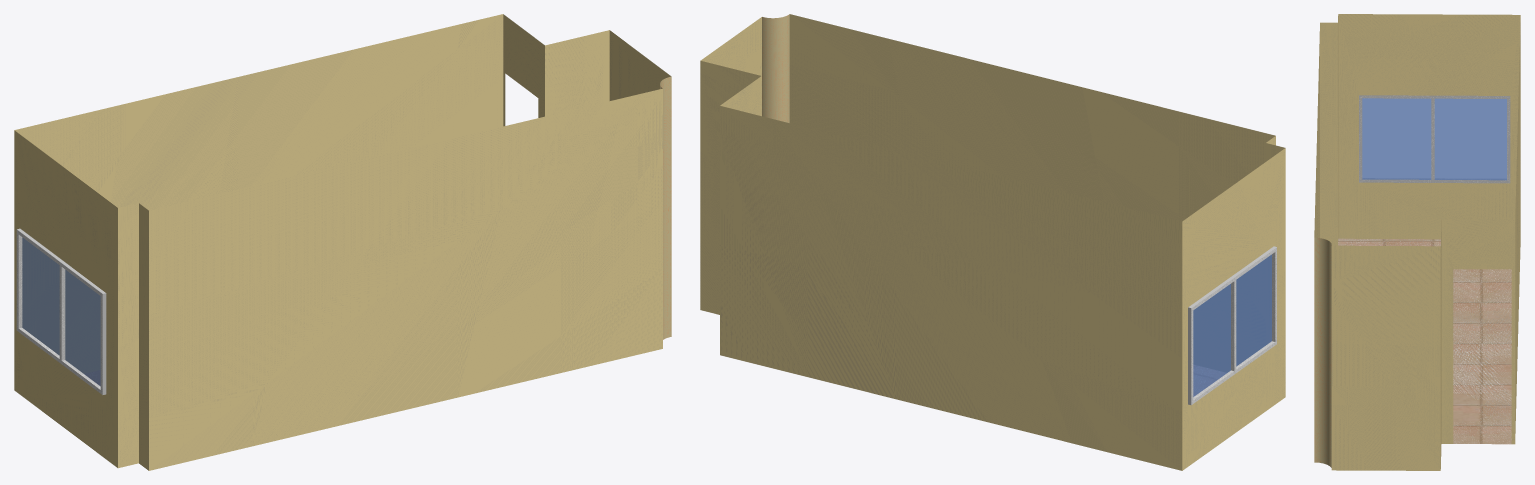
The model's file is DES023.obj.
3 renders of one model, left to right at view 1: azimuth 30°, elevation 25°; view 2: azimuth 150°, elevation 25°; view 3: azimuth 270°, elevation 25°, orthographic. The views are drawn at different scales.
Parts seen in each view (by area): view 1: Mesh6 DES023 Model, Mesh1 ventana2_1 DES023 Model; view 2: Mesh6 DES023 Model, Mesh1 ventana2_1 DES023 Model; view 3: Mesh6 DES023 Model, Mesh1 ventana2_1 DES023 Model.
Boxes of the visible parts, box(x1,y1,x2,y2) form: Mesh6 DES023 Model: box(14, 14, 671, 470); Mesh1 ventana2_1 DES023 Model: box(16, 228, 106, 394); Mesh6 DES023 Model: box(700, 14, 1285, 470); Mesh1 ventana2_1 DES023 Model: box(1188, 246, 1276, 405); Mesh6 DES023 Model: box(1314, 14, 1520, 470); Mesh1 ventana2_1 DES023 Model: box(1359, 95, 1510, 183).
Size of the model in its own units: 8.02 by 3.6 by 3.
9 materials, 2 textured.
